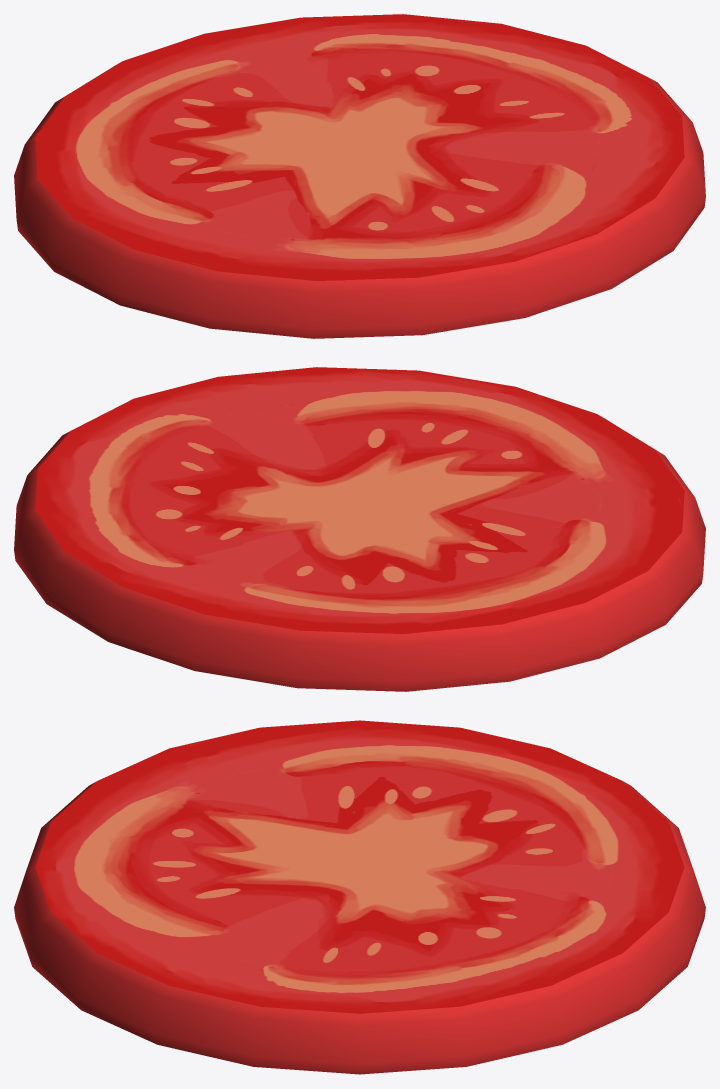
The model's file is Obj_Jitomate.fbx.
The picture shows the model from 3 angles, top to bottom: view 1: azimuth 30°, elevation 25°; view 2: azimuth 150°, elevation 25°; view 3: azimuth 270°, elevation 25°; orthographic projection. The views are drawn at different scales.
Parts seen in each view (by area): view 1: Obj_Jitomate; view 2: Obj_Jitomate; view 3: Obj_Jitomate.
Part boxes in pixels (x1,y1,x2,y2): Obj_Jitomate: [14, 14, 705, 338]; Obj_Jitomate: [14, 367, 705, 691]; Obj_Jitomate: [14, 720, 705, 1074].
Size of the model in its own units: 2.13 by 0.1642 by 1.99.
1 material, 1 textured.
